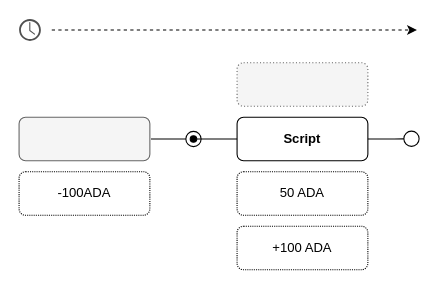
Image size: 448x289. Some labels were removed from this diagram. Here are the shapes that lost their labels. From the top down, the centre of each, then its label:
(x=302, y=84): Locking
(x=84, y=138): Buyer
